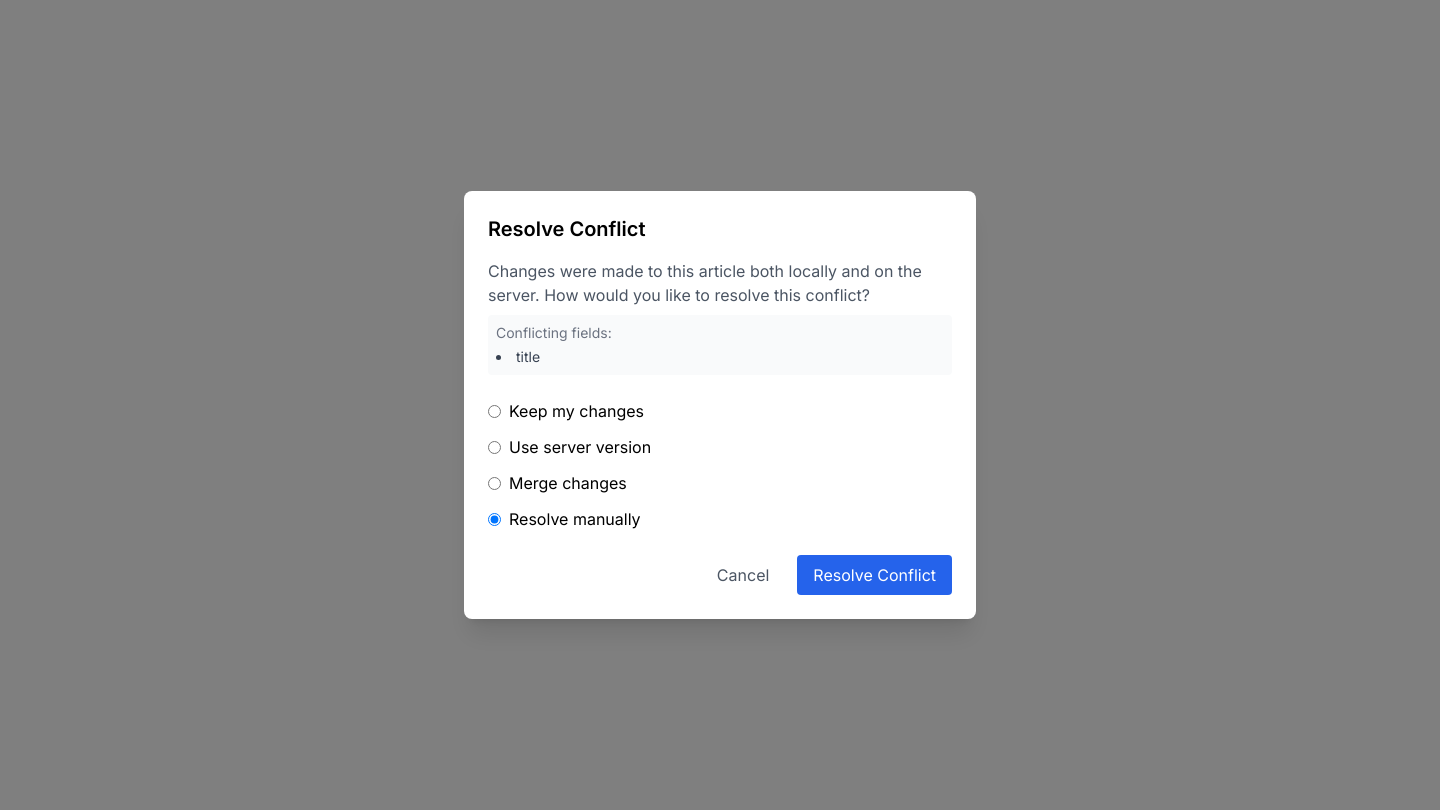
Scenario: ConflictResolution › should handle strategy selection
Expected: the radio button labelled "Resolve manually" is checked, [488,512,501,526]
# Change strategy to 'client-wins'
Click the radio button labelled "Keep my changes": [494, 411] box [488,404,501,418]
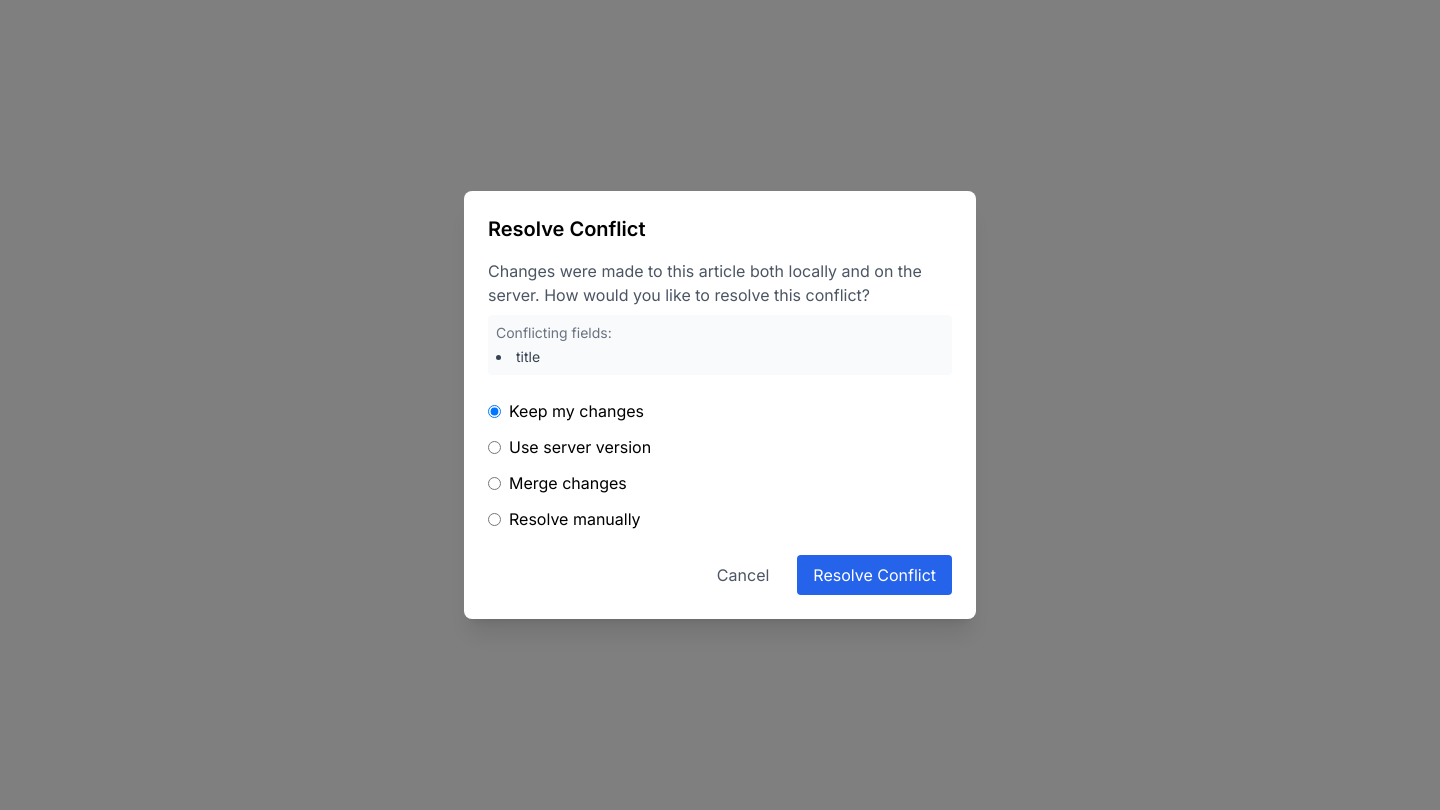
Expected: the radio button labelled "Keep my changes" is checked, [488,404,501,418]
Expected: the radio button labelled "Resolve manually" is not checked, [488,512,501,526]
